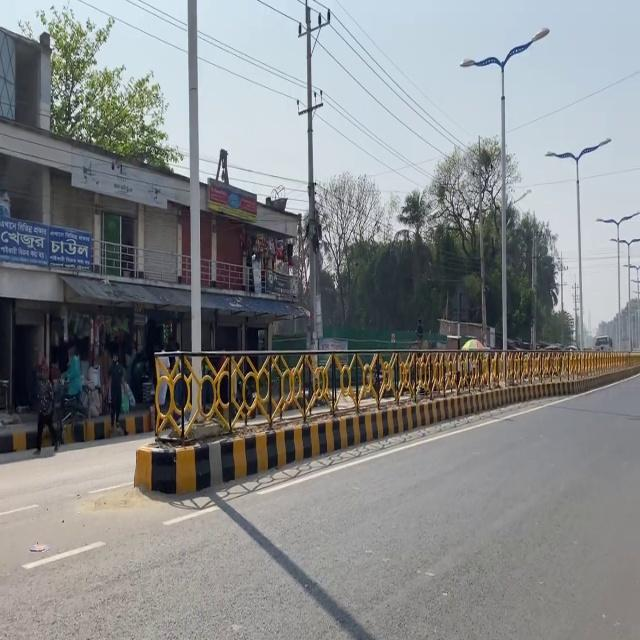Fallen-tree: (56, 385, 91, 427)
Garbage: (133, 437, 211, 494)
Garbage-bin: (415, 318, 423, 341)
Light-pole: (185, 0, 203, 426)
Pole: (109, 340, 534, 507)
